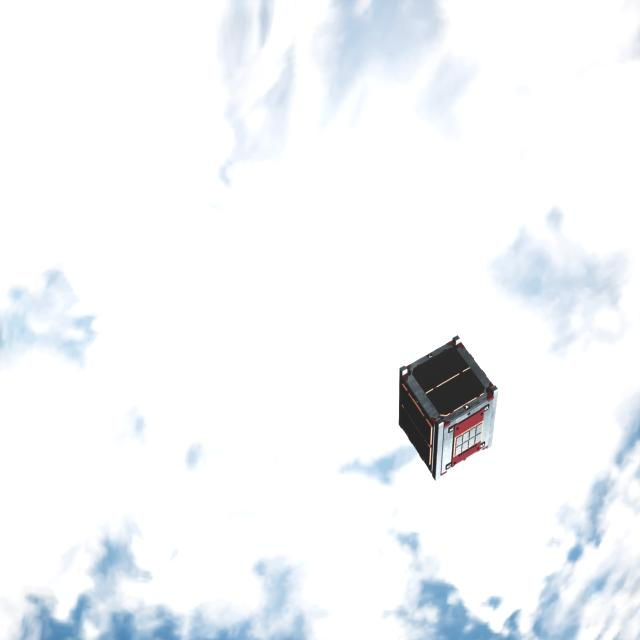medium_debris: (393, 333, 502, 481)
